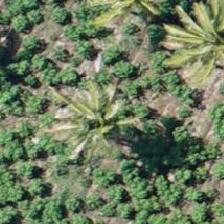coconut_tree: (41, 68, 131, 158), (127, 147, 217, 223), (157, 19, 223, 109)
